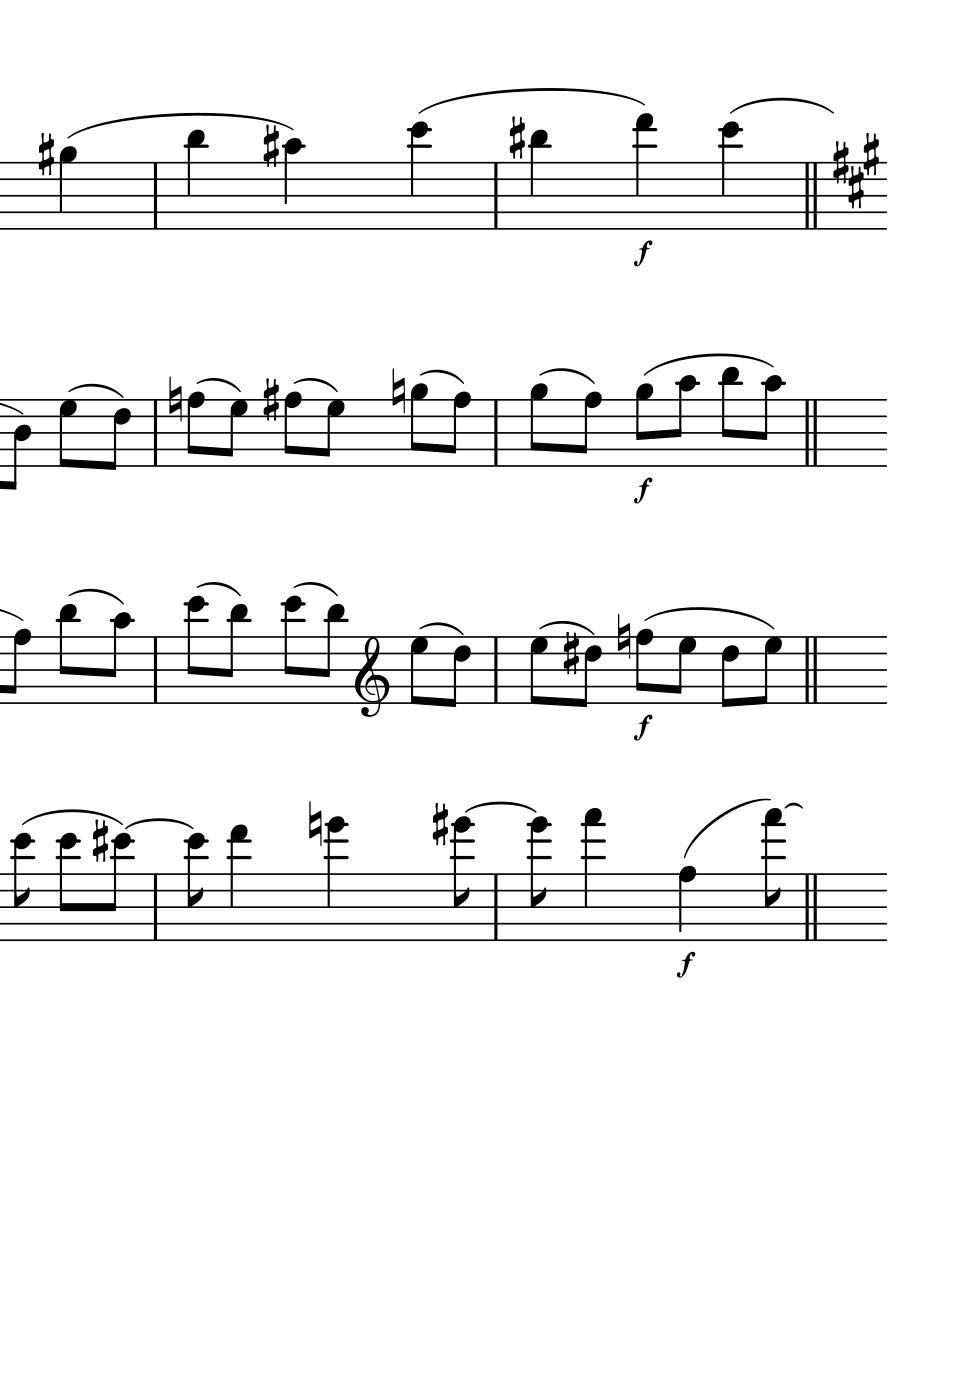4_10: (280, 137, 307, 232)
4_11: (183, 128, 208, 232), (528, 130, 552, 232)
4_12: (719, 122, 743, 233), (407, 123, 432, 233)
4_13: (227, 825, 252, 943), (633, 113, 657, 232)
4_14: (323, 815, 349, 941)
4_15: (581, 806, 605, 942)
4_8: (676, 864, 698, 944)
4_9: (57, 144, 78, 232)
8_10: (101, 612, 134, 706), (668, 373, 700, 468), (752, 374, 784, 469)
8_11: (218, 603, 251, 706), (319, 603, 346, 705), (717, 364, 742, 469), (55, 602, 80, 706)
8_12: (103, 832, 134, 942), (10, 831, 36, 944), (55, 831, 82, 943), (280, 595, 307, 705), (183, 831, 209, 944), (183, 595, 208, 705)
8_14: (449, 815, 476, 945), (526, 815, 553, 945)
8_15: (762, 806, 786, 942)
8_4: (2, 397, 32, 492)
8_6: (103, 397, 133, 473), (575, 635, 603, 710), (445, 635, 472, 709), (719, 635, 740, 710)
8_7: (220, 398, 249, 468), (669, 634, 697, 704), (317, 397, 344, 468), (754, 635, 781, 706), (528, 635, 552, 707), (56, 397, 78, 470), (408, 635, 428, 706)
8_8: (572, 390, 603, 469), (3, 627, 32, 706), (442, 391, 472, 468), (633, 628, 657, 706), (281, 390, 303, 469), (183, 391, 206, 469)
8_9: (632, 382, 655, 468), (527, 382, 549, 469), (408, 382, 428, 468)
A_S: (829, 131, 883, 210)
Double_barline: (798, 873, 823, 940), (800, 399, 822, 466), (800, 636, 822, 703), (800, 162, 821, 230)
Gclef: (354, 635, 390, 718)
Natural: (165, 375, 183, 424), (389, 366, 406, 417), (305, 799, 322, 847), (614, 612, 631, 660)
Sharp: (259, 378, 280, 424), (260, 123, 280, 171), (507, 115, 526, 162), (430, 801, 449, 846), (561, 629, 579, 676), (91, 818, 108, 864), (37, 131, 54, 177)
Single_barline: (147, 162, 164, 228), (146, 400, 163, 466), (487, 163, 504, 228), (487, 400, 504, 464), (487, 637, 503, 703), (147, 637, 163, 702), (488, 875, 503, 940), (147, 875, 162, 938)
Slur: (69, 112, 296, 140), (681, 796, 774, 861), (422, 89, 644, 115), (645, 607, 775, 633), (642, 351, 776, 375), (729, 97, 834, 116), (22, 809, 118, 824), (68, 586, 125, 606), (67, 381, 124, 399), (465, 801, 538, 814), (540, 367, 595, 385), (194, 376, 243, 394), (537, 620, 595, 635), (418, 367, 465, 385), (292, 376, 338, 394), (125, 818, 196, 829), (196, 580, 242, 598), (293, 580, 336, 598), (417, 620, 465, 635)
f: (629, 238, 655, 270), (630, 476, 654, 506), (631, 714, 654, 743), (673, 950, 697, 979)
